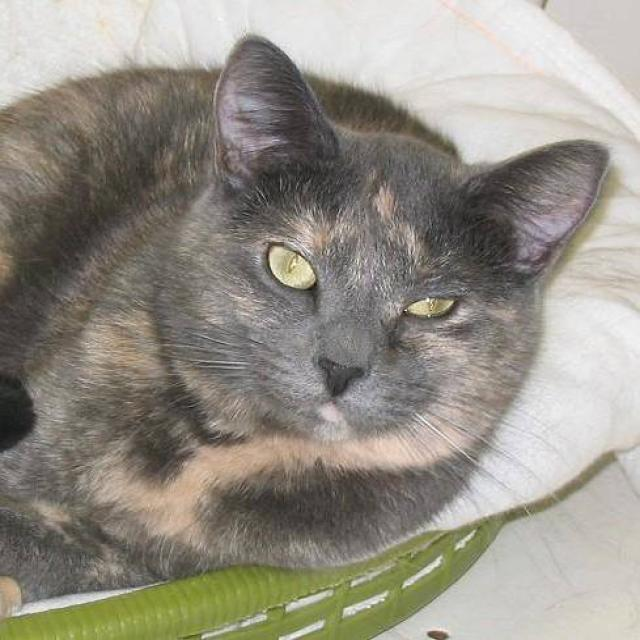cat: (0, 31, 611, 627)
